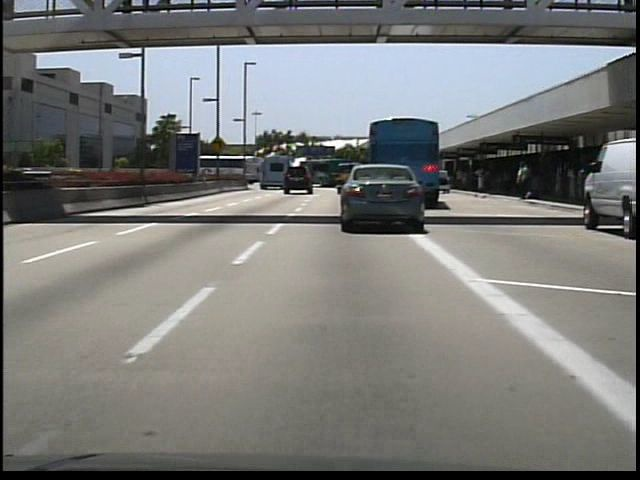person: (516, 158, 533, 202)
